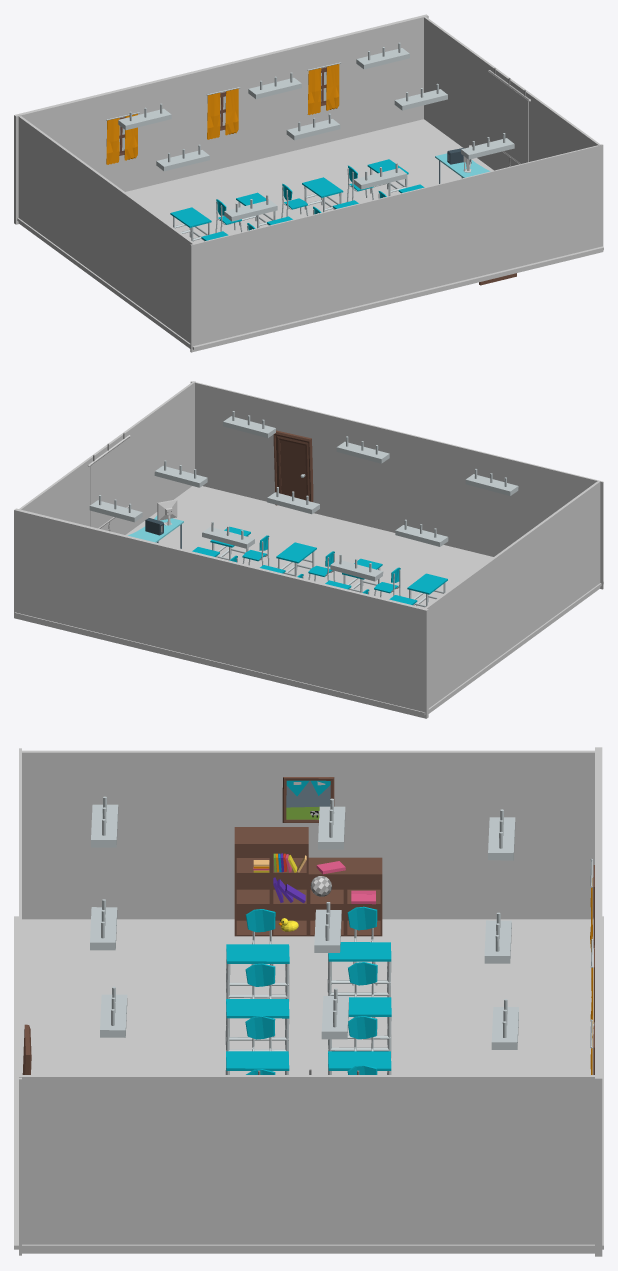
Rendered from room.glb.
3 renders of one model, top to bottom at view 1: azimuth 30°, elevation 25°; view 2: azimuth 150°, elevation 25°; view 3: azimuth 270°, elevation 25°, orthographic. The views are drawn at different scales.
Visible parts, largest first — view 1: group421461732, group973485231, group1192281077, group826957035; view 2: group421461732, group973485231, group1192281077, group826957035; view 3: group421461732, group973485231, group1192281077, group826957035.
Part boxes in pixels (<box>): group421461732: <box>14,14,603,352</box>; group973485231: <box>106,42,514,241</box>; group1192281077: <box>106,64,516,285</box>; group826957035: <box>435,153,490,183</box>; group421461732: <box>14,381,603,718</box>; group973485231: <box>89,411,518,607</box>; group1192281077: <box>273,430,313,505</box>; group826957035: <box>128,515,183,548</box>; group421461732: <box>14,747,603,1256</box>; group973485231: <box>90,780,593,1074</box>; group1192281077: <box>22,777,594,1074</box>; group826957035: <box>286,780,330,807</box>.
Bounding box in the file's own units: 12.3 × 3.45 × 9.26.
